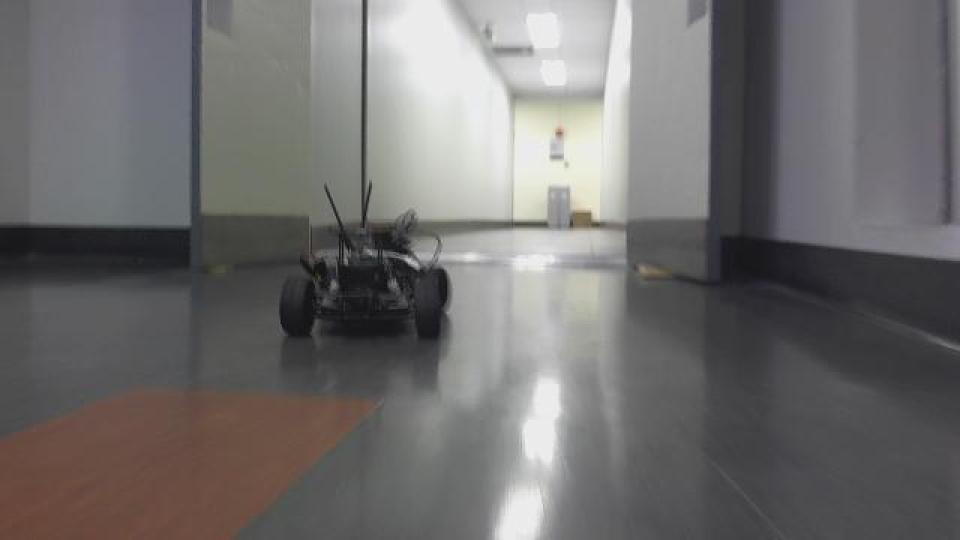car: (275, 178, 453, 342)
